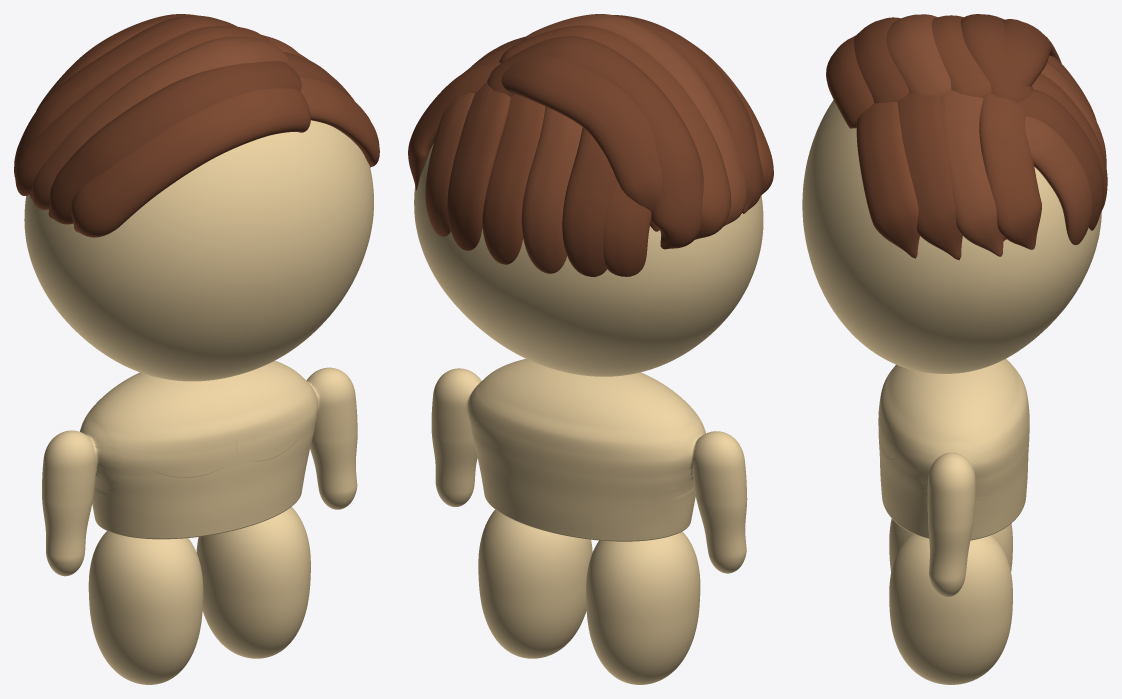
File: Masculine-shirtless-base.glb
3 views of the same model, side by side, from view 1: azimuth 30°, elevation 25°; view 2: azimuth 150°, elevation 25°; view 3: azimuth 270°, elevation 25° (orthographic).
Visible parts, largest first — view 1: Skin / soft oval head, Skin / rounded torso, Skin / leg blob -1, Skin / leg blob 1, Hair / Side part main 0, Hair / Side part main 1, Hair / Side part main 2, Hair / Side part main 3, Hair / Side part main 4, Hair / Side part short 0, Hair / Side part crown, Hair / Side part short 1; view 2: Skin / rounded torso, Skin / soft oval head, Skin / leg blob -1, Skin / leg blob 1, Hair / Side part crown, Hair / Side part main 4, Hair / Side part nape 2, Hair / Side part main 3, Hair / Side part nape 3, Hair / Side part nape 4, Hair / Side part main 2, Hair / Side part nape 1 (+5 smaller); view 3: Skin / soft oval head, Skin / rounded torso, Skin / leg blob 1, Hair / Side part short 3, Hair / Side part short 0, Hair / Side part short 1, Hair / Side part short 2, Hair / Side part nape 5, Hair / Side part main 2, Hair / Side part nape 4, Hair / Side part main 4, Hair / Side part main 1 (+6 smaller).
Boxes of the visible parts, x1,y1,x2,y2 form: Skin / soft oval head: [24, 120, 373, 381]; Skin / rounded torso: [42, 360, 357, 576]; Skin / leg blob -1: [88, 531, 203, 684]; Skin / leg blob 1: [196, 507, 310, 658]; Hair / Side part main 0: [71, 88, 310, 237]; Hair / Side part main 1: [48, 61, 301, 224]; Hair / Side part main 2: [31, 36, 288, 209]; Hair / Side part main 3: [15, 26, 269, 195]; Hair / Side part main 4: [14, 15, 236, 177]; Hair / Side part short 0: [298, 75, 379, 167]; Hair / Side part crown: [36, 14, 197, 110]; Hair / Side part short 1: [283, 51, 354, 100]; Skin / rounded torso: [431, 359, 747, 573]; Skin / soft oval head: [414, 143, 763, 376]; Skin / leg blob -1: [586, 531, 700, 684]; Skin / leg blob 1: [478, 509, 592, 658]; Hair / Side part crown: [501, 55, 662, 231]; Hair / Side part main 4: [487, 36, 703, 249]; Hair / Side part nape 2: [521, 106, 582, 273]; Hair / Side part main 3: [499, 25, 730, 239]; Hair / Side part nape 3: [482, 94, 545, 264]; Hair / Side part nape 4: [447, 82, 510, 250]; Hair / Side part main 2: [521, 14, 747, 226]; Hair / Side part nape 1: [562, 127, 615, 276]; Skin / soft oval head: [802, 100, 1101, 373]; Skin / rounded torso: [878, 359, 1029, 597]; Skin / leg blob 1: [889, 533, 1012, 684]; Hair / Side part short 3: [979, 93, 1041, 249]; Hair / Side part short 0: [856, 102, 919, 258]; Hair / Side part short 1: [897, 93, 962, 260]; Hair / Side part short 2: [940, 89, 1003, 256]; Hair / Side part nape 5: [1025, 116, 1092, 244]; Hair / Side part main 2: [886, 14, 951, 96]; Hair / Side part nape 4: [1016, 89, 1104, 230]; Hair / Side part main 4: [960, 14, 1032, 102]; Hair / Side part main 1: [854, 17, 909, 103].
Size of the model in its own units: 0.9754 by 1.87 by 0.825.
